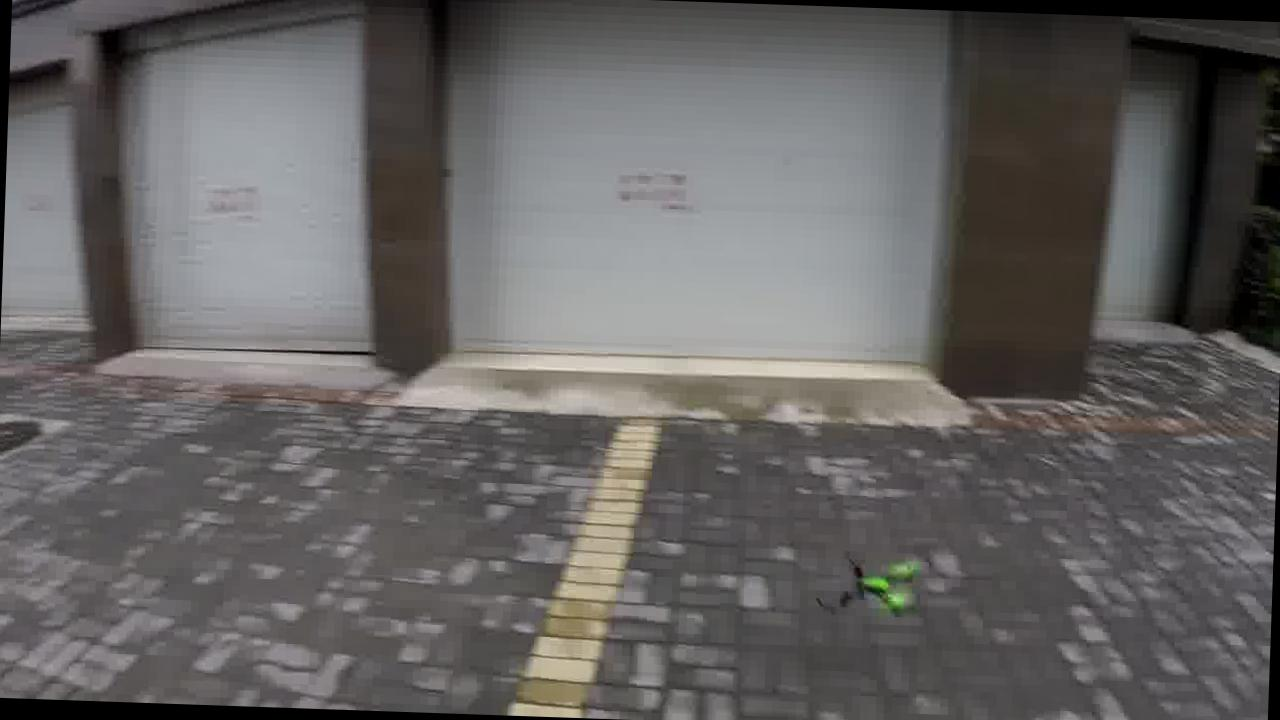drone: (793, 536, 947, 630)
